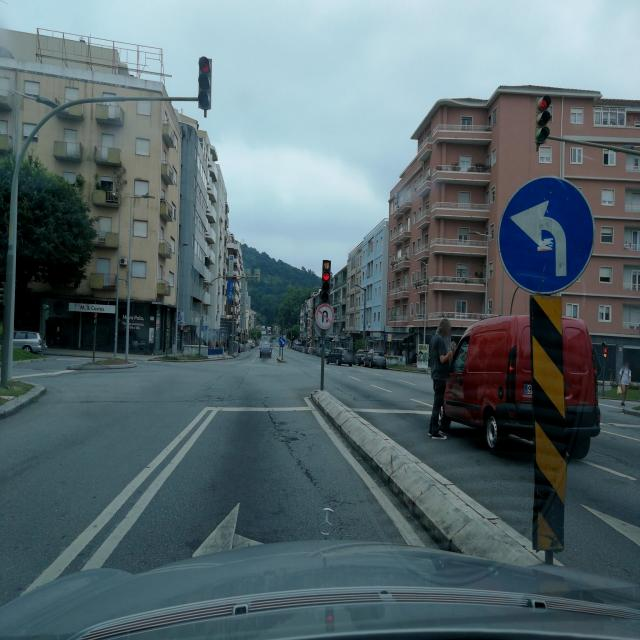car: (440, 315, 602, 459), (10, 330, 47, 356), (325, 348, 353, 366), (363, 349, 387, 368), (336, 348, 354, 366), (355, 350, 369, 366), (260, 343, 272, 359)
